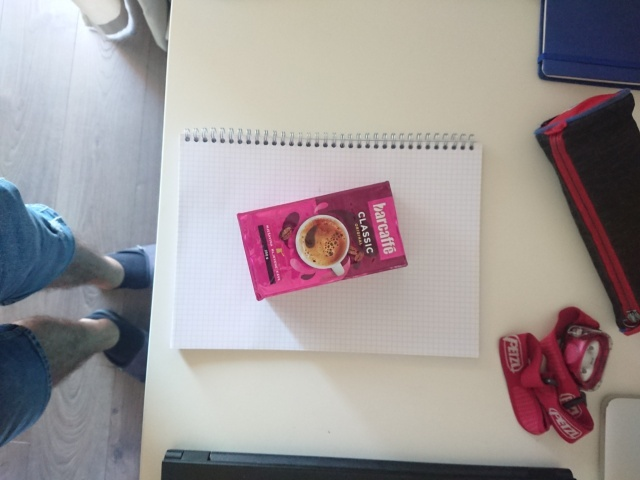Barcaffe Classic Original 225g: (235, 179, 411, 304)
